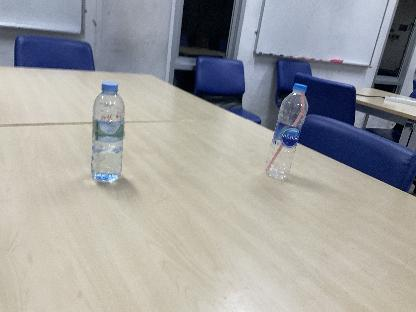Plastic Bottle: (266, 82, 308, 180), (92, 80, 124, 184)
